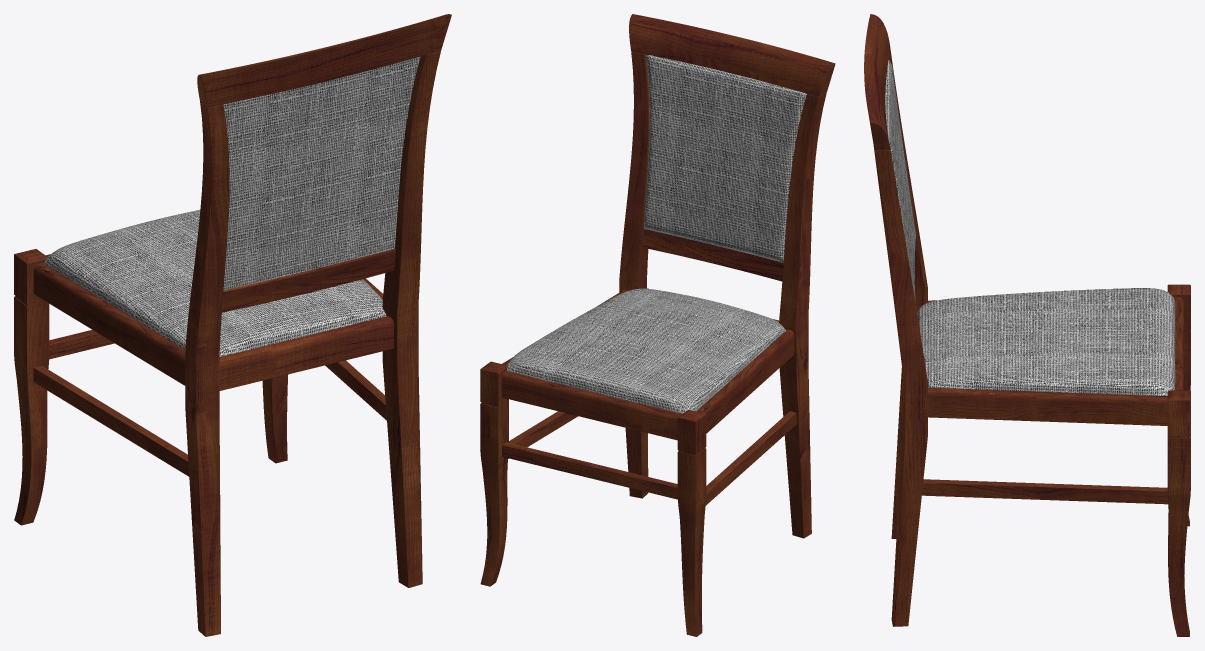
File: kitchen_chair.fbx
3 renders of one model, left to right at view 1: azimuth 30°, elevation 25°; view 2: azimuth 150°, elevation 25°; view 3: azimuth 270°, elevation 25°, orthographic. The views are drawn at different scales.
Visible parts, largest first — view 1: table&chair_Akacia_02; view 2: table&chair_Akacia_02; view 3: table&chair_Akacia_02.
Boxes of the visible parts, left/top/right/bottom form: table&chair_Akacia_02: left=14, top=14, right=451, bottom=636; table&chair_Akacia_02: left=480, top=14, right=835, bottom=636; table&chair_Akacia_02: left=864, top=14, right=1190, bottom=636.
Bounding box in the file's own units: 191 × 394 × 228.
